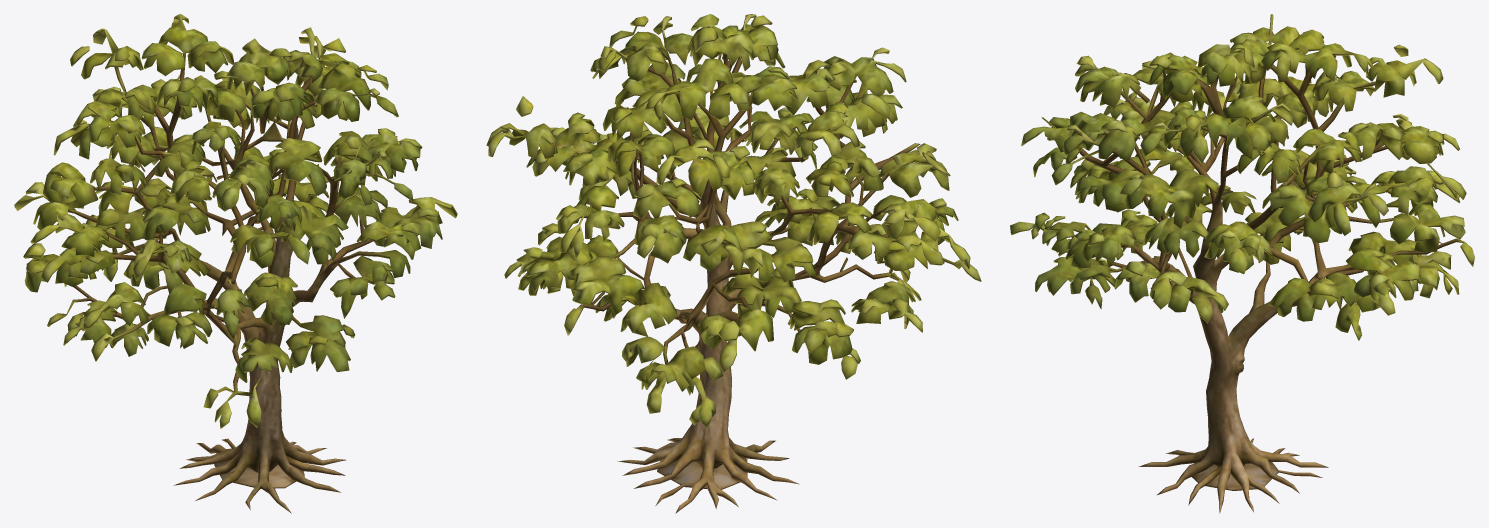
3 renders of one model, left to right at view 1: azimuth 30°, elevation 25°; view 2: azimuth 150°, elevation 25°; view 3: azimuth 270°, elevation 25°, orthographic. The views are drawn at different scales.
Visible parts, largest first — view 1: tripo_node_1e29b9f5-7970-4b85-b42c-947a6cc8e239; view 2: tripo_node_1e29b9f5-7970-4b85-b42c-947a6cc8e239; view 3: tripo_node_1e29b9f5-7970-4b85-b42c-947a6cc8e239.
Boxes of the visible parts, <box> form: tripo_node_1e29b9f5-7970-4b85-b42c-947a6cc8e239: <box>14,14,457,513</box>; tripo_node_1e29b9f5-7970-4b85-b42c-947a6cc8e239: <box>486,14,981,513</box>; tripo_node_1e29b9f5-7970-4b85-b42c-947a6cc8e239: <box>1010,14,1474,513</box>.
Bounding box in the file's own units: 0.9163 × 0.9775 × 0.9622.
Materials: 1 (1 with a texture image).
